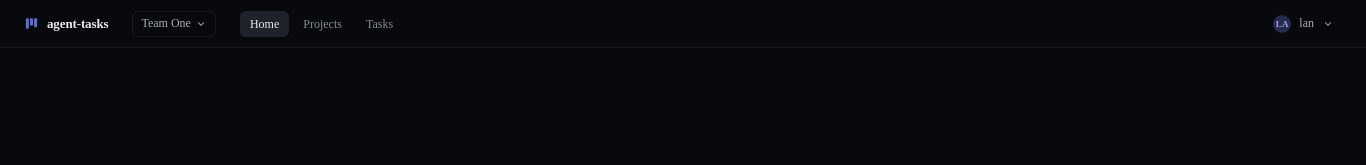
AppHeader team switch › remembers the team and updates the label
Click the button with aria-label "Switch team" at (174, 24), box [132,10,216,36]
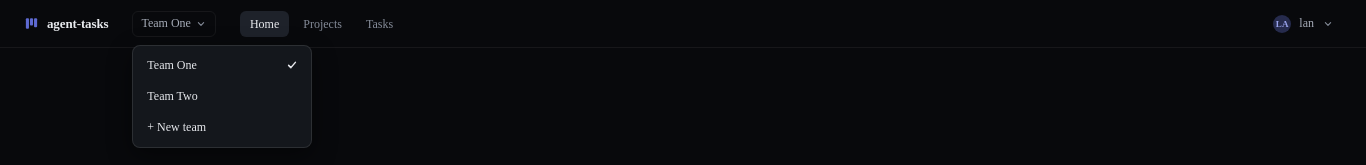
Click the menu item "Team Two" at (222, 96), box [137,80,307,112]
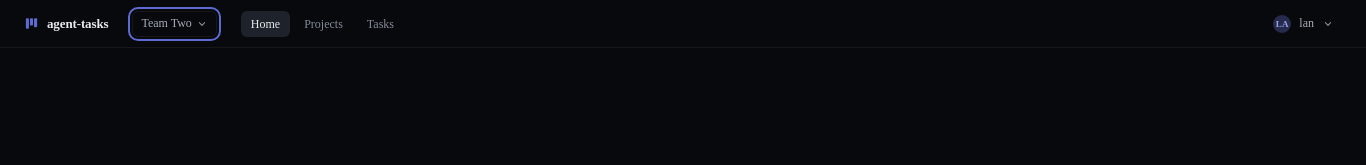
Check: the button with aria-label "current team Team Two" is shown, box [132,10,217,36]
Check: the menu "Teams" is gone
